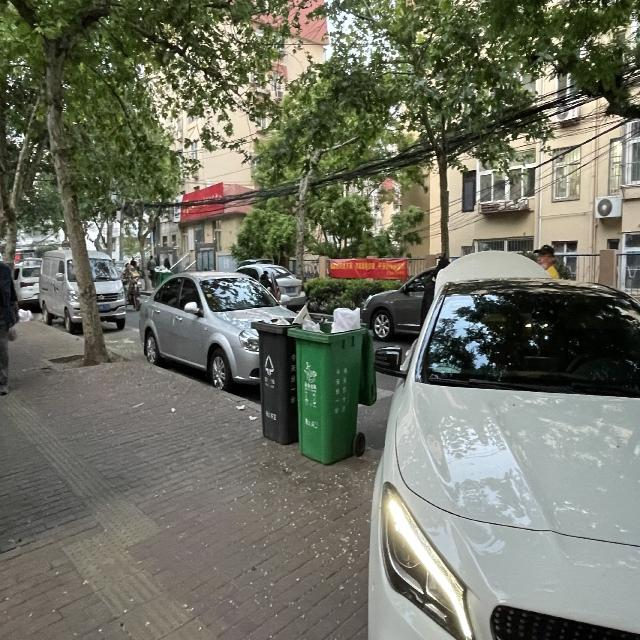overflow: (287, 305, 376, 466), (250, 301, 310, 444)
